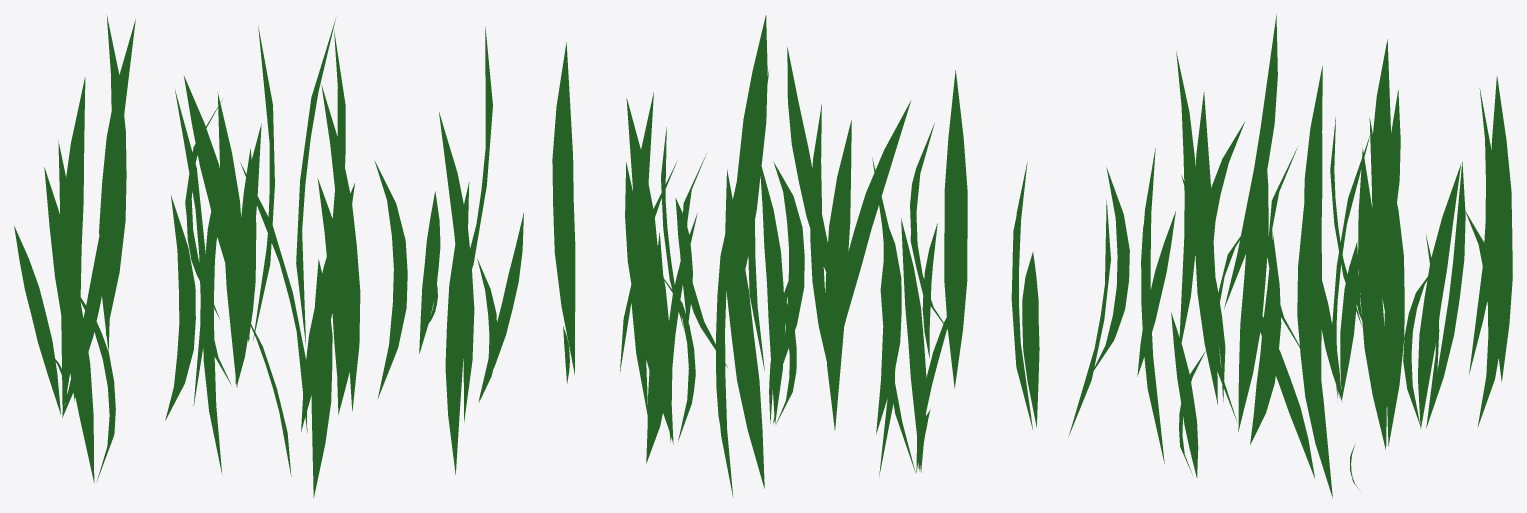
The model's file is Gras_v2.fbx.
3 renders of one model, left to right at view 1: azimuth 30°, elevation 25°; view 2: azimuth 150°, elevation 25°; view 3: azimuth 270°, elevation 25°, orthographic. The views are drawn at different scales.
Parts seen in each view (by area): view 1: Grashalm.003; view 2: Grashalm.003; view 3: Grashalm.003.
Part boxes in pixels (x1=…): Grashalm.003: x1=14, y1=15, x2=523, y2=497; Grashalm.003: x1=552, y1=15, x2=1039, y2=497; Grashalm.003: x1=1068, y1=14, x2=1512, y2=498.
Bounding box in the file's own units: 159 × 107 × 140.
